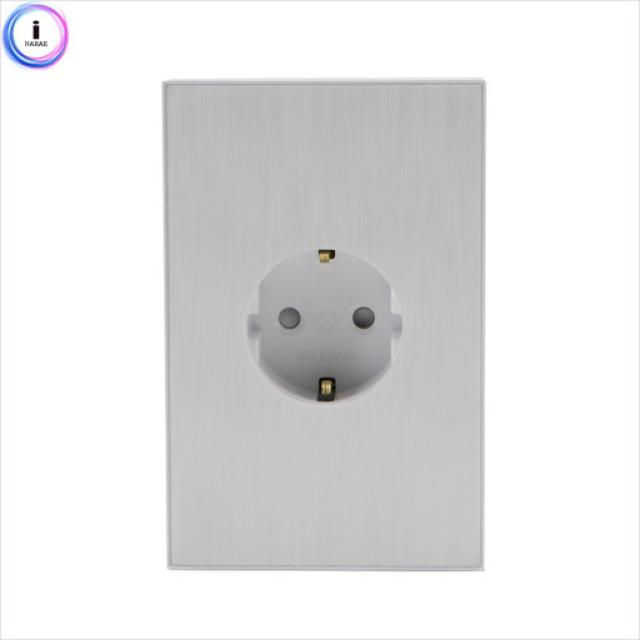typeb: (122, 61, 522, 599)
